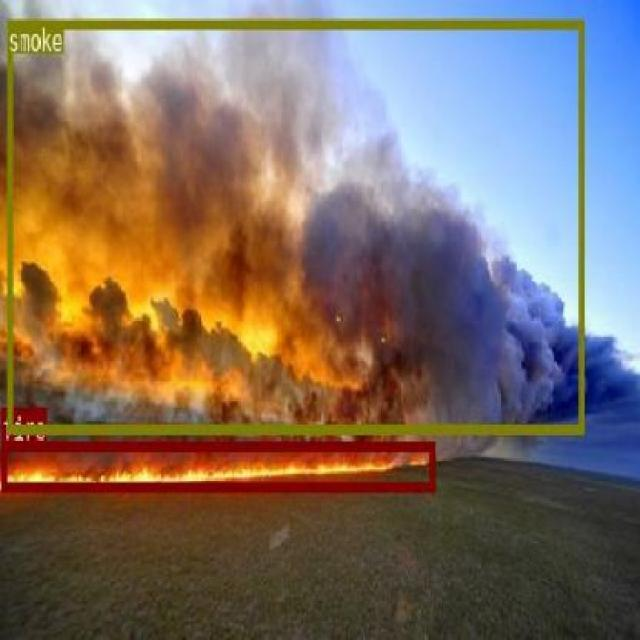fire: (0, 441, 434, 490)
smoke: (6, 19, 583, 432)
